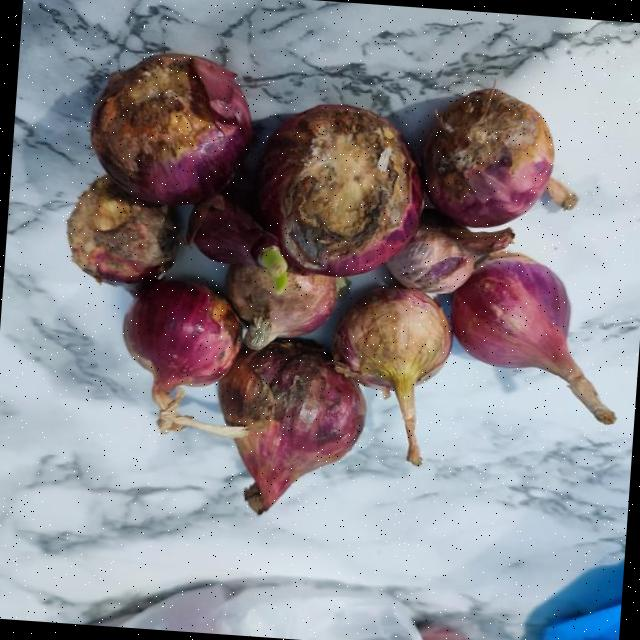Onion: (449, 251, 614, 423), (256, 102, 421, 273), (216, 338, 364, 514), (88, 51, 249, 201), (330, 283, 451, 464), (120, 279, 244, 437), (423, 86, 552, 225), (64, 173, 175, 284), (385, 209, 513, 291), (225, 263, 336, 347)
